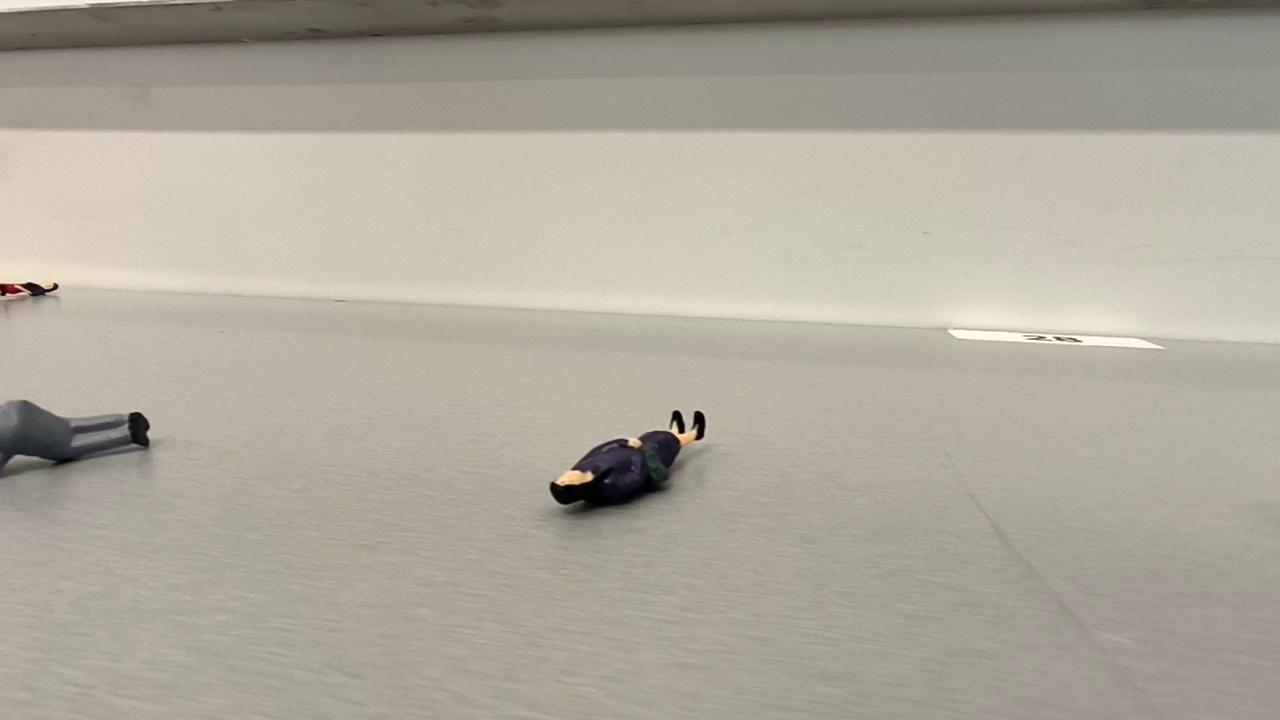human: (544, 410, 708, 512), (0, 396, 155, 478), (0, 280, 61, 308)
